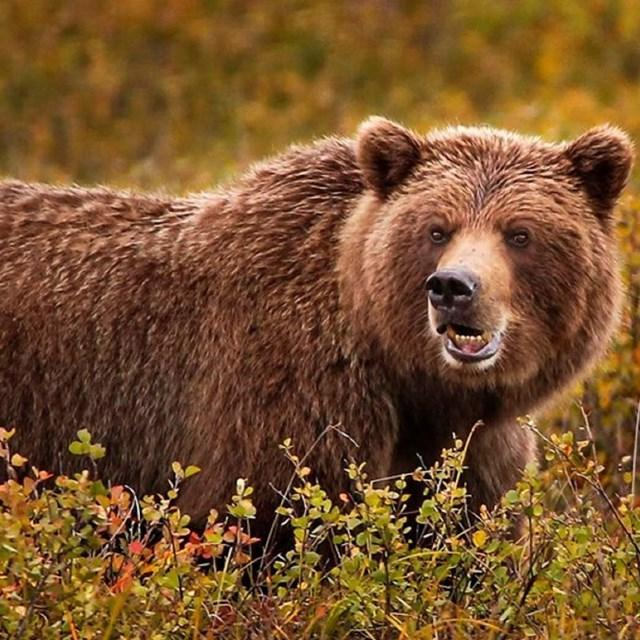Bear: (0, 116, 634, 536)
